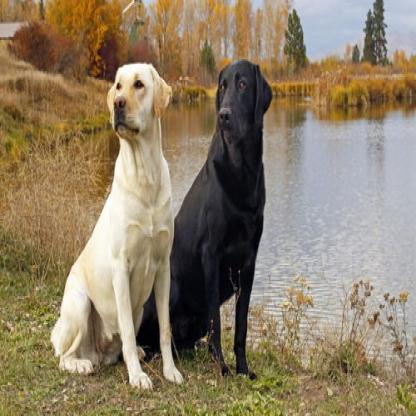dog: (135, 61, 275, 383), (50, 55, 177, 382)
